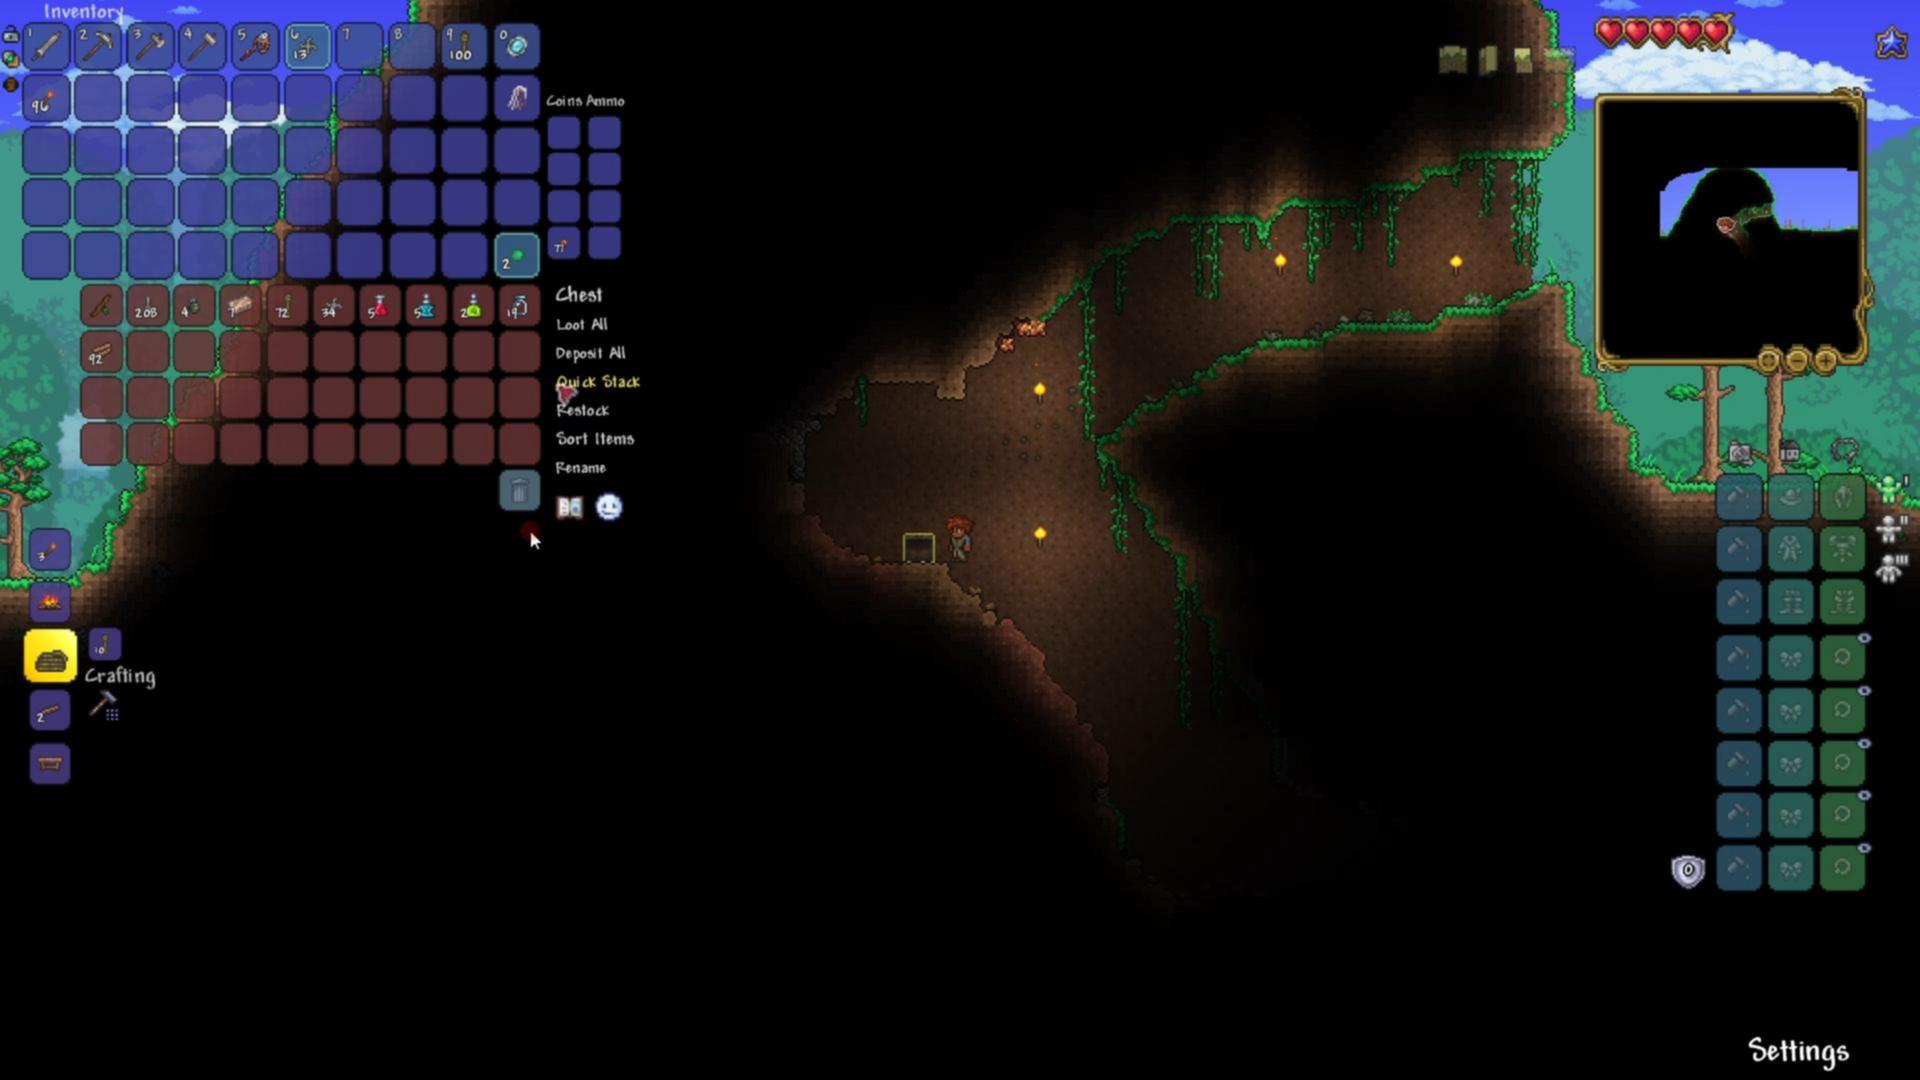dirt: (1102, 319, 1379, 443), (1091, 439, 1201, 582), (1377, 265, 1578, 340), (1378, 138, 1556, 200), (1139, 195, 1327, 252), (1044, 235, 1145, 316), (1580, 382, 1658, 475), (88, 468, 144, 582), (1642, 477, 1717, 509), (1545, 79, 1578, 142)
